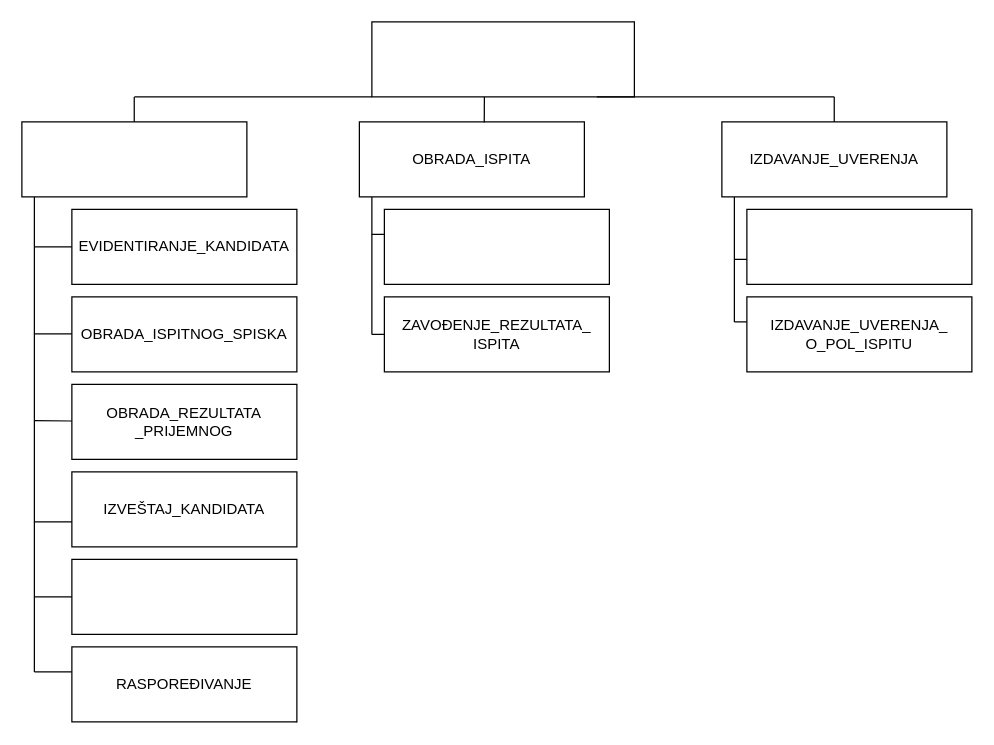
Some shapes in this 994 by 745 pixel diagram are drawn without their labels. The shapes that lost their labels are listed below. From the top down, each one's centre as x and y in pixels, then its label:
(x=502, y=59): IS_STUDENSKE_SLUŽBE
(x=134, y=159): UPIS
(x=496, y=246): EVIDENTIRANJE_ ISPITNIH_OBAVEZA
(x=859, y=246): IZDAVANJE_UVERENJA _O_STATUSU
(x=184, y=596): UPIS_GODINE
